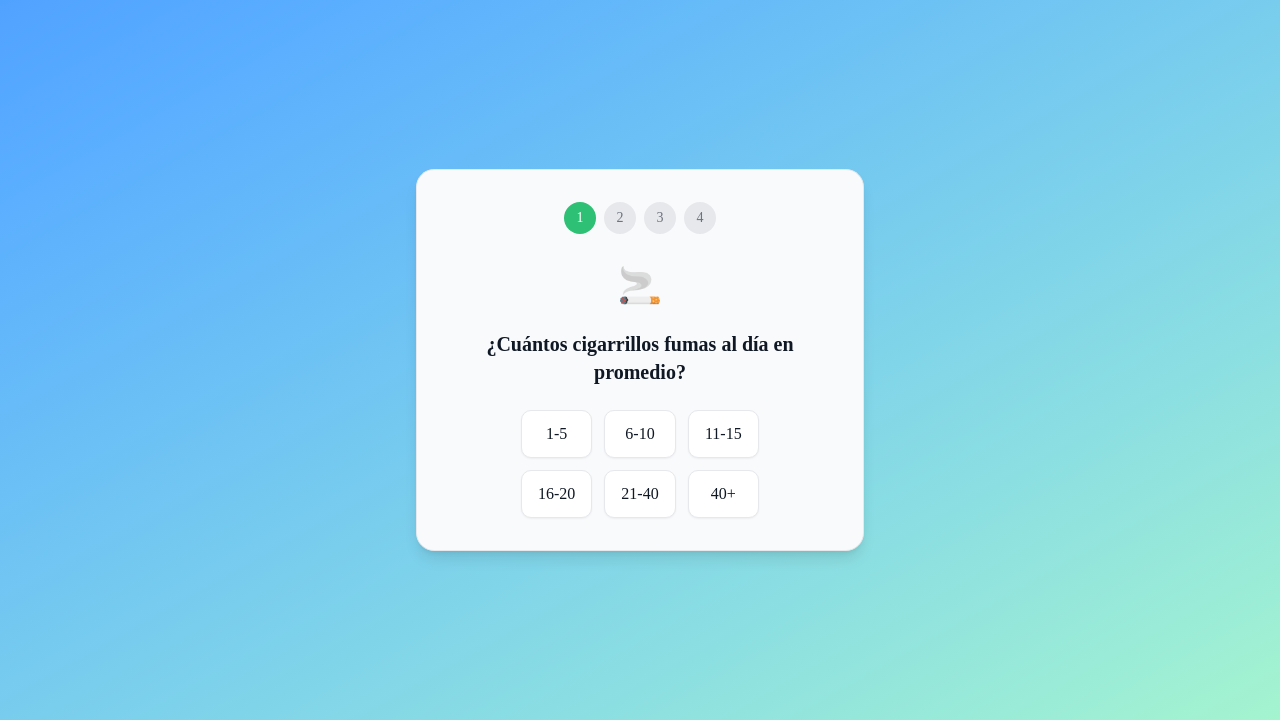
Scenario: OnboardingWizard › shows error message when server action fails
What coordinates should you click on to do the following:
click the button "6-10"
I would click on:
 (640, 434)
Its box is [604, 410, 676, 458].
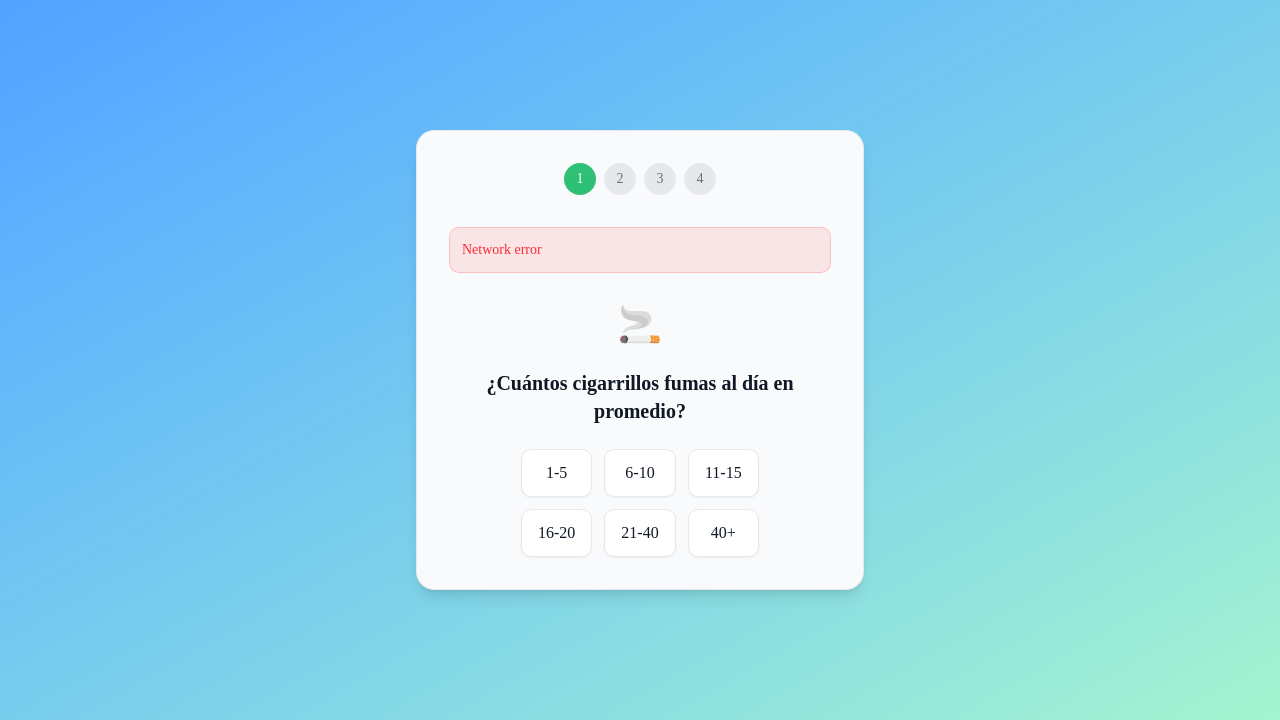
expect the message reads "Network error": met, box [462, 242, 542, 257]
